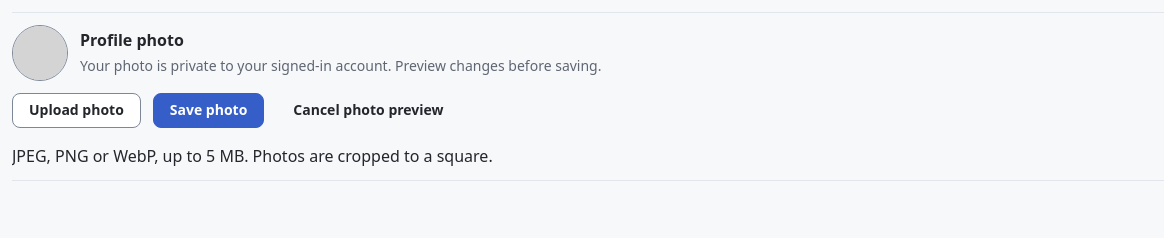
Scenario: applies a saved photo only after matching private readback and removes it with a fresh version
Earlier steps of the test are not shown.
Expected: the button "Upload photo" is enabled, [12,93,141,128]
Click the button "Save photo".
click(209, 110)  # box [153,93,264,128]
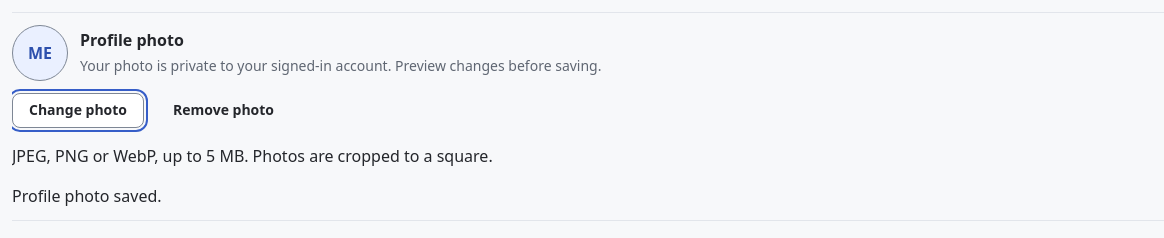
Now the text "Profile photo saved." is shown, box [12,185,162,207]
Click the button "Remove photo".
click(224, 110)  # box [156,93,291,128]
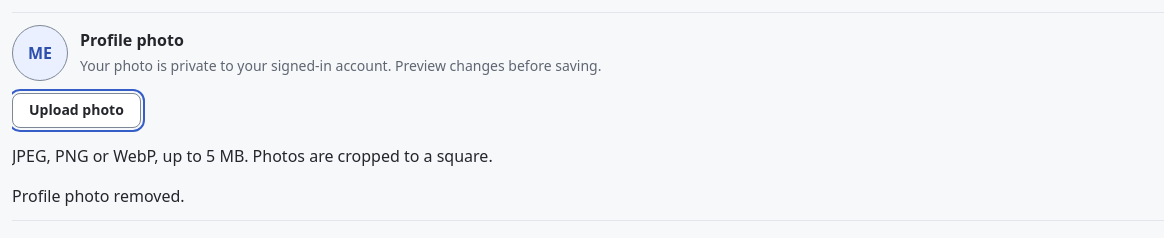
Now the text "Profile photo removed." is shown, box [12,185,184,207]
